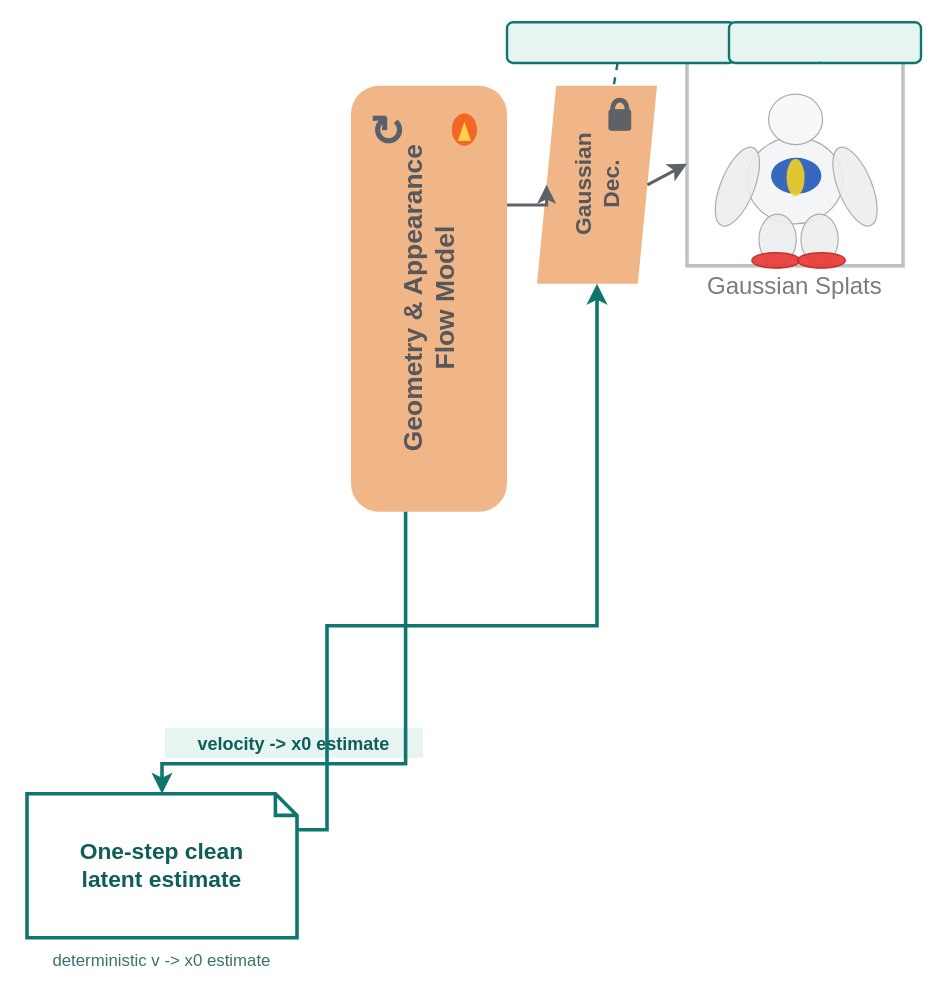
Image size: 942x995. Some labels were removed from this diagram. The shapes that lost their labels are listed below. From the top down, each one's centre as x and y in pixels, then its label:
pixel 620 42: Frozen for V1 supervision
pixel 824 42: Reused 3D Gaussians
